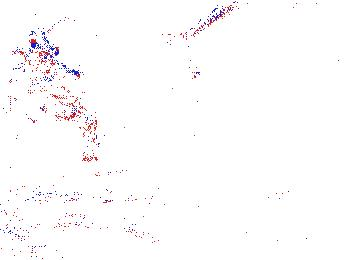X-ray fish: (166, 219, 269, 260), (220, 226, 307, 259), (1, 231, 62, 260)
glassfish: (163, 1, 288, 63), (271, 186, 346, 260)
siberian prawn: (23, 28, 102, 161), (1, 183, 164, 247)
